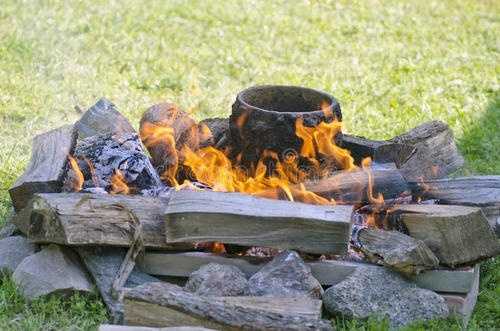fire: (130, 94, 365, 199), (356, 153, 432, 227), (65, 151, 90, 190)
